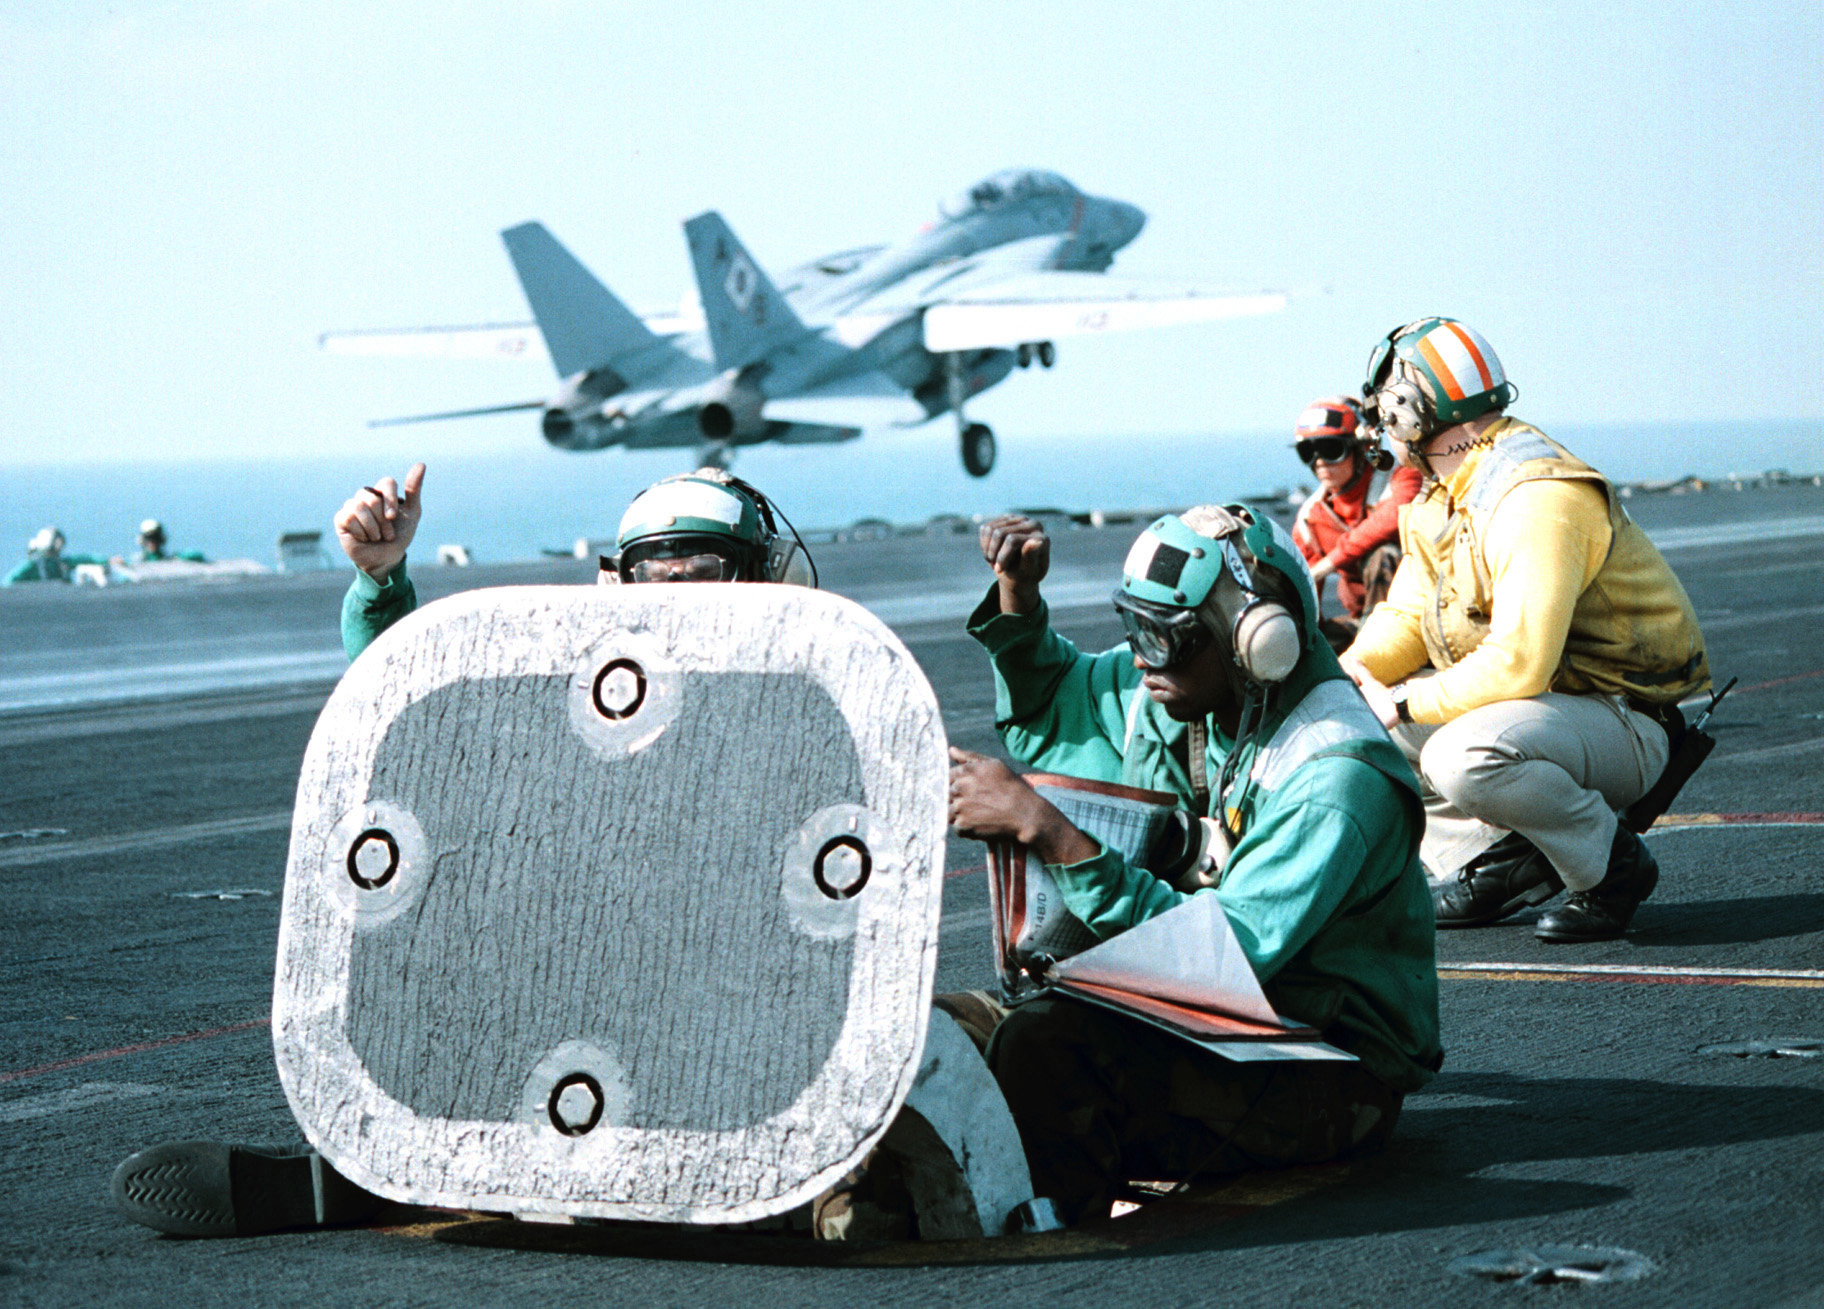F14: (314, 163, 1335, 477)
